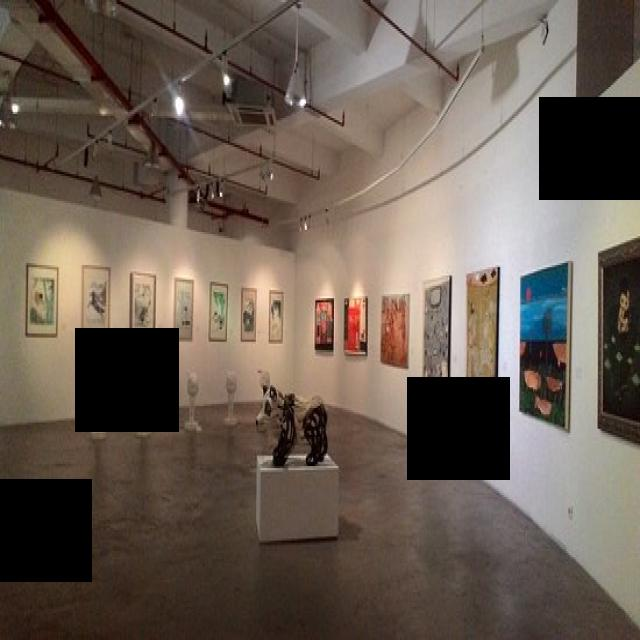Tablo: (598, 235, 640, 444), (519, 262, 568, 428), (465, 266, 498, 418), (422, 275, 449, 398), (25, 263, 59, 338), (380, 294, 410, 368), (81, 265, 110, 341), (129, 271, 156, 340), (343, 295, 368, 356), (173, 277, 194, 340), (209, 280, 228, 342), (315, 298, 334, 351), (241, 286, 257, 342), (269, 290, 284, 343)
